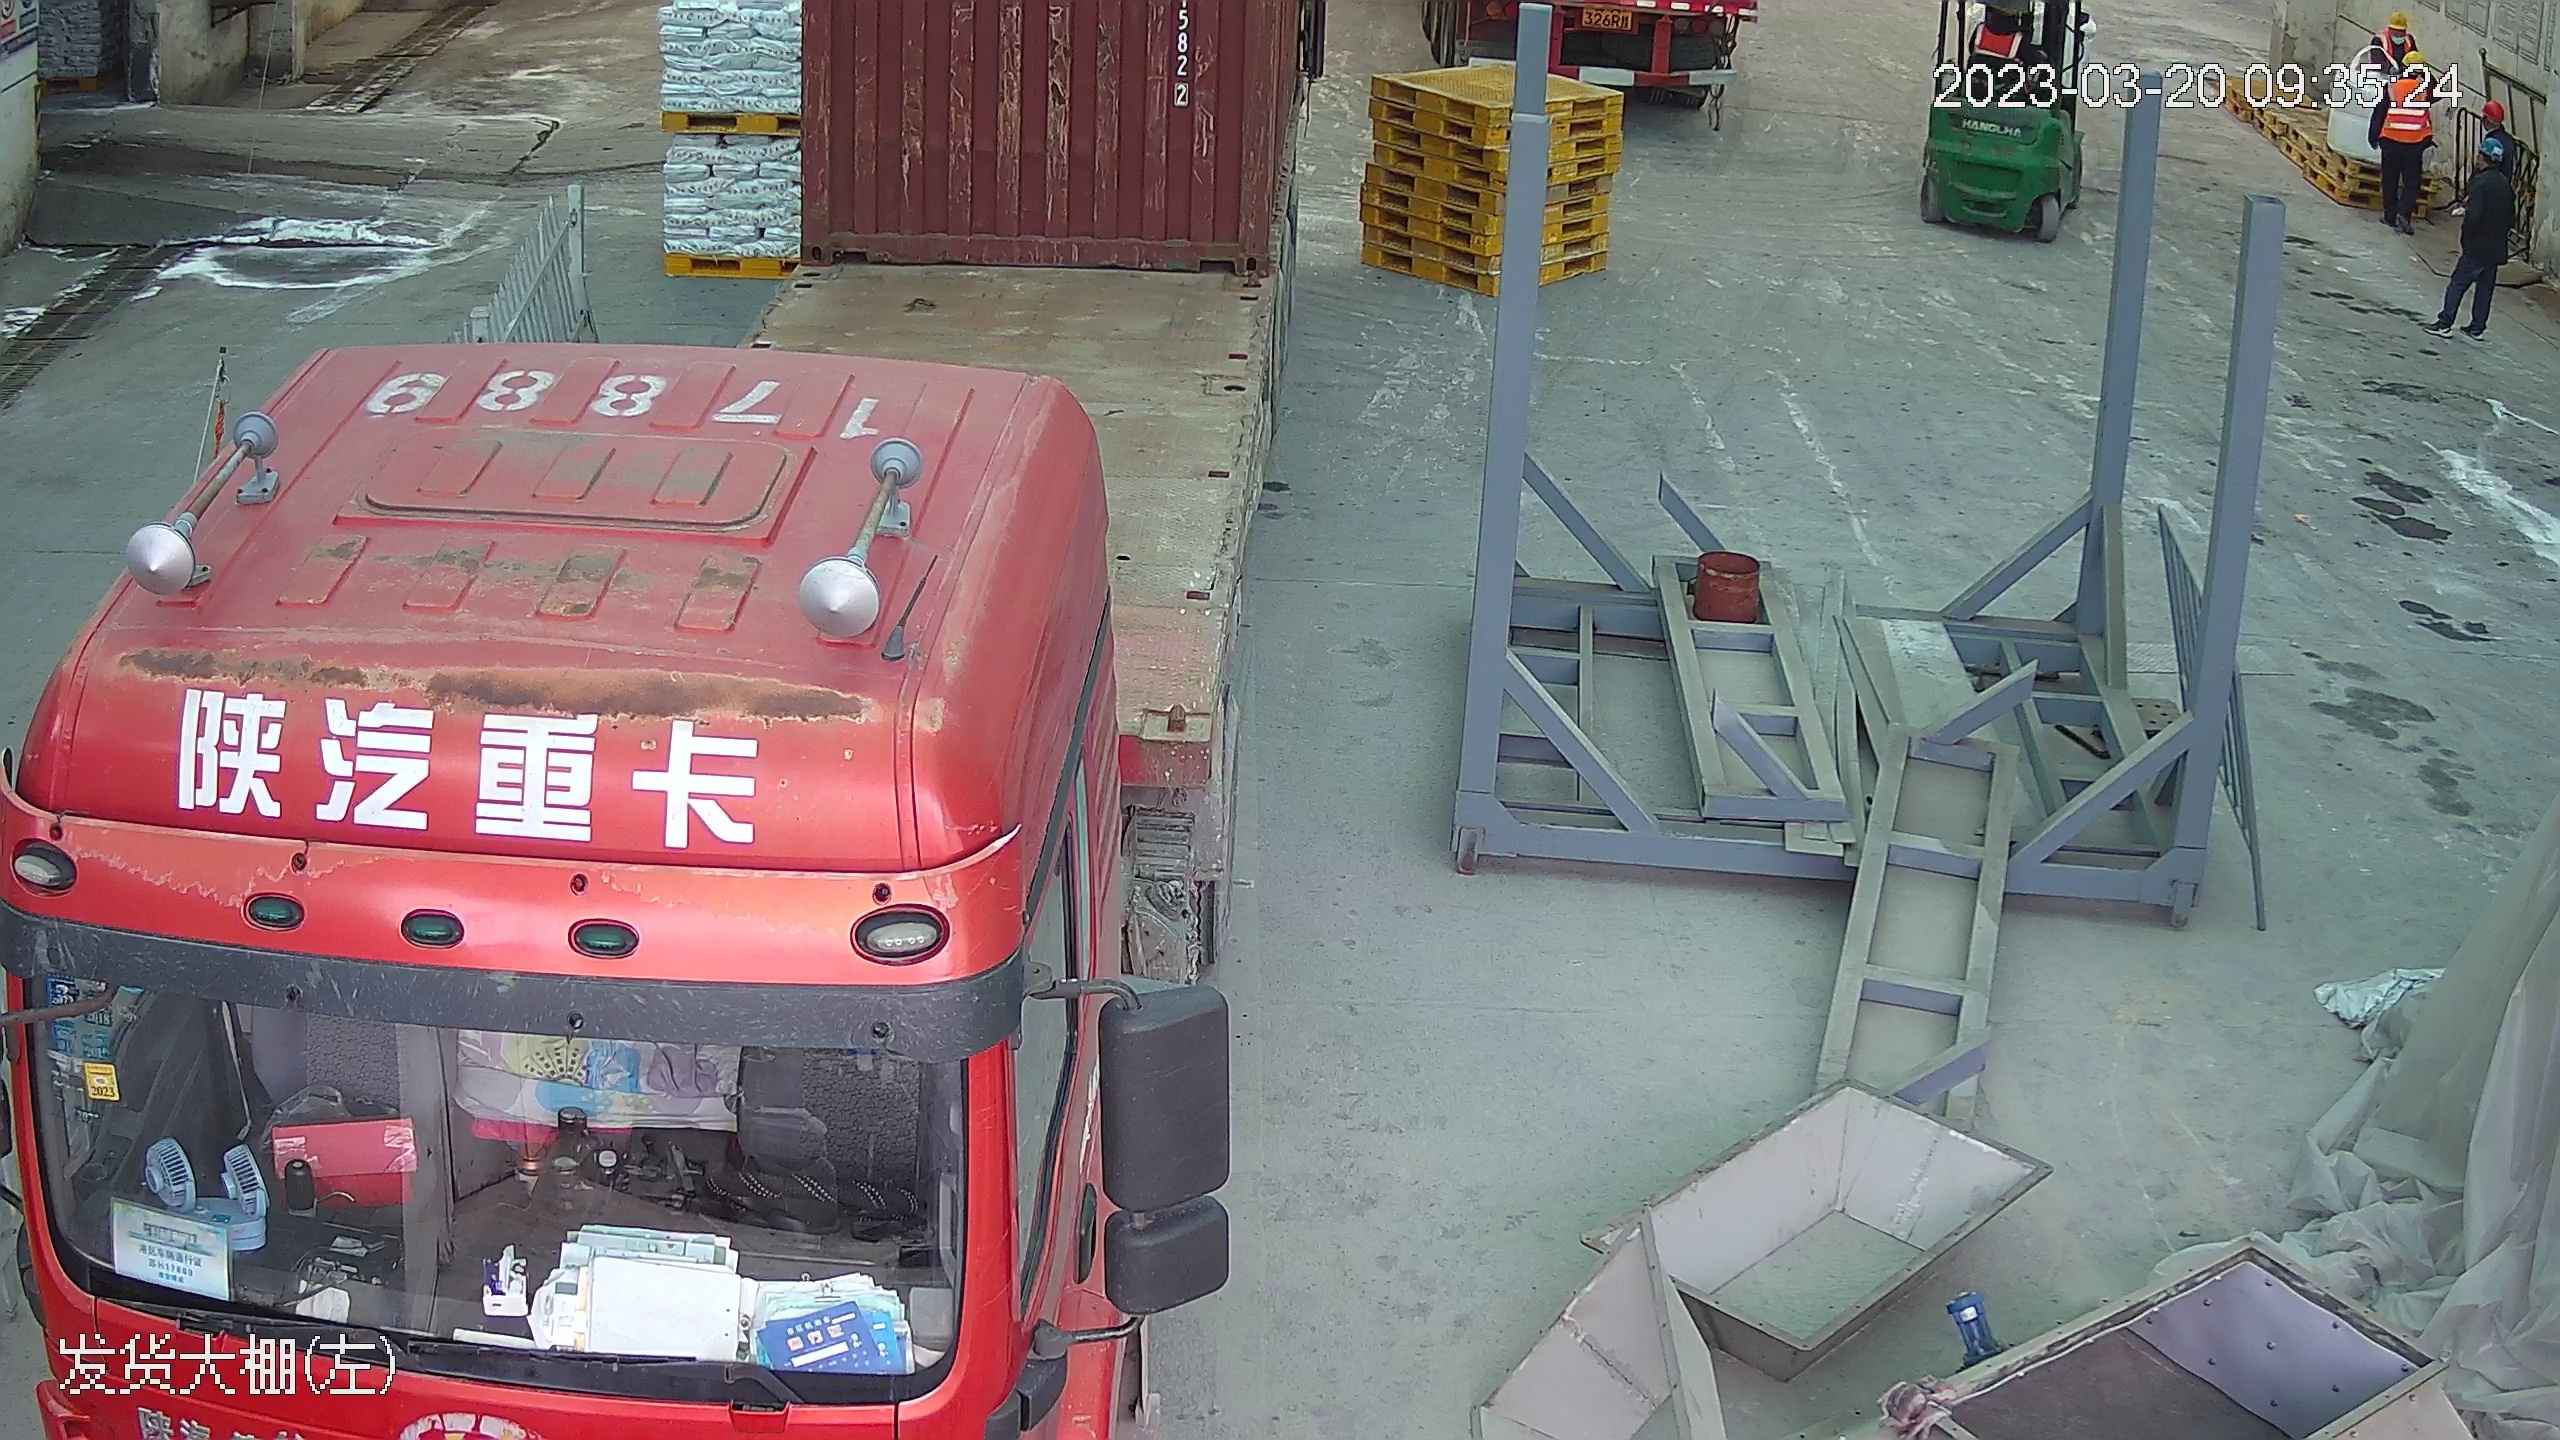head: (2368, 8, 2427, 87), (2452, 138, 2511, 214), (2382, 50, 2434, 110)
helmet: (2477, 136, 2509, 163), (2380, 7, 2415, 32), (2481, 97, 2505, 126), (2400, 49, 2424, 71)
people: (2425, 138, 2508, 341), (2366, 52, 2440, 234)
truck: (7, 1, 1289, 1440)
